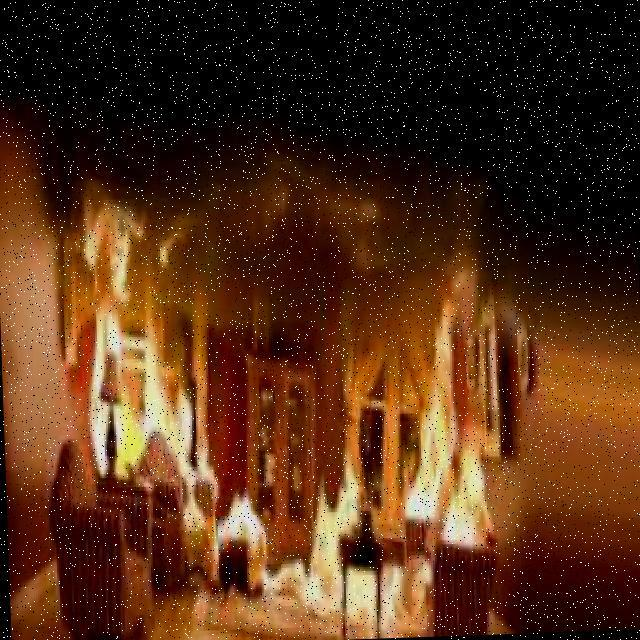Fire: (76, 196, 152, 480), (393, 287, 467, 517), (295, 457, 371, 621), (435, 402, 496, 560), (156, 369, 204, 546), (216, 472, 269, 558)
Smoke: (143, 159, 509, 300)
